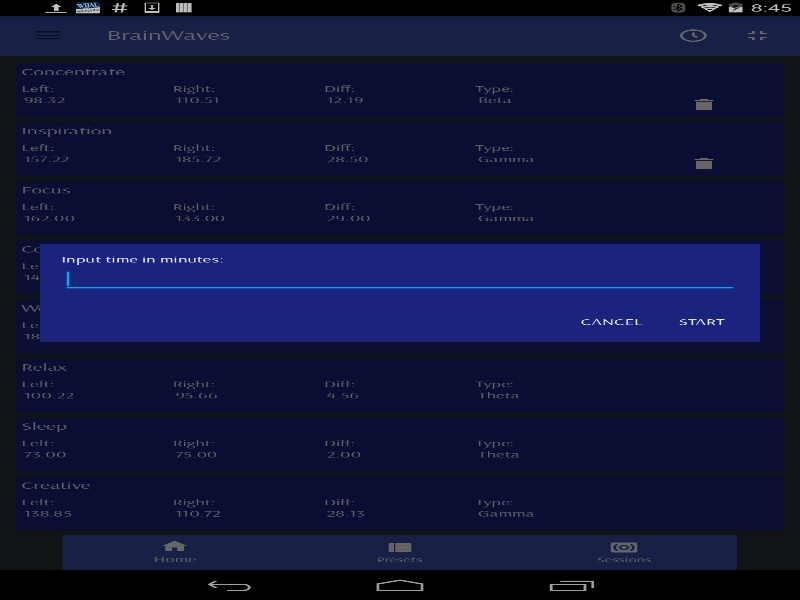Button: (564, 305, 658, 339), (658, 305, 744, 339)
Input: (61, 265, 738, 292)
